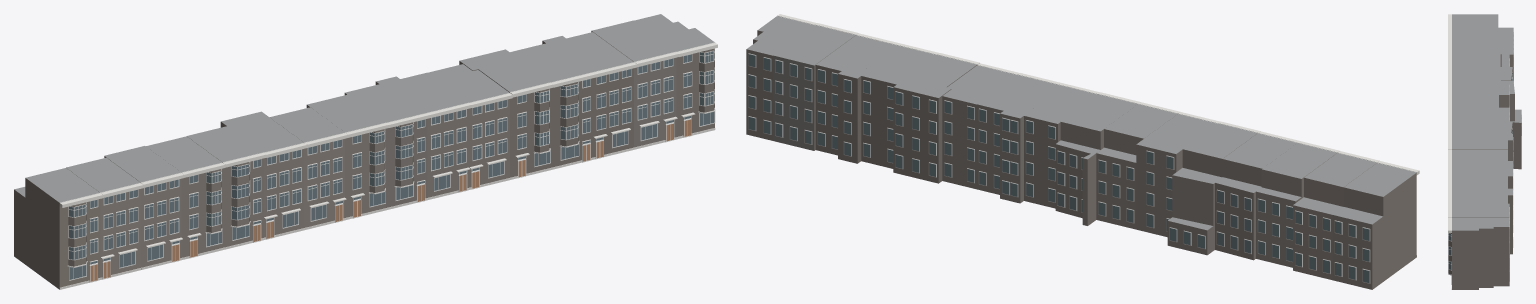
File: chunk-face-eems-6-78.glb
The picture shows the model from 3 angles, left to right: view 1: azimuth 30°, elevation 25°; view 2: azimuth 150°, elevation 25°; view 3: azimuth 270°, elevation 25°; orthographic projection. The views are drawn at different scales.
Parts seen in each view (by area): view 1: face-eems-6-78; view 2: face-eems-6-78; view 3: face-eems-6-78.
Part boxes in pixels (<box>): face-eems-6-78: <box>14,14,717,289</box>; face-eems-6-78: <box>746,14,1419,289</box>; face-eems-6-78: <box>1448,14,1521,289</box>.
Size of the model in its own units: 97.82 by 12.54 by 14.09.
